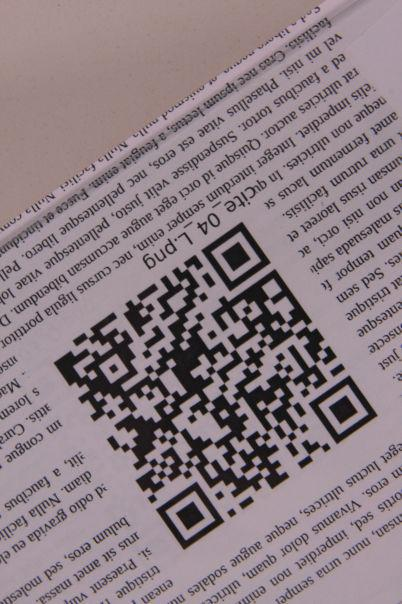Finder pattern: (197, 222, 276, 291), (154, 485, 228, 551), (309, 374, 377, 443)
